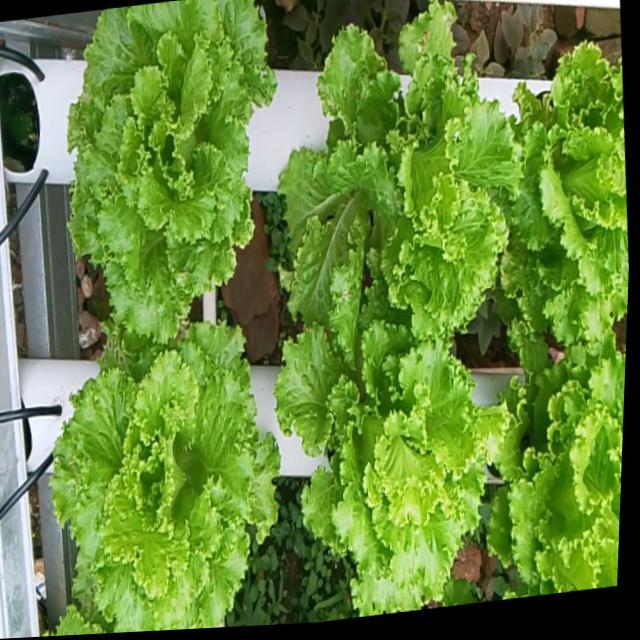Mature: (283, 0, 531, 330), (68, 0, 280, 361), (282, 300, 511, 616), (52, 330, 288, 635), (514, 31, 629, 341), (502, 332, 626, 596)
